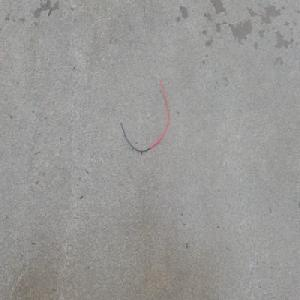Wire: (116, 71, 171, 153)
